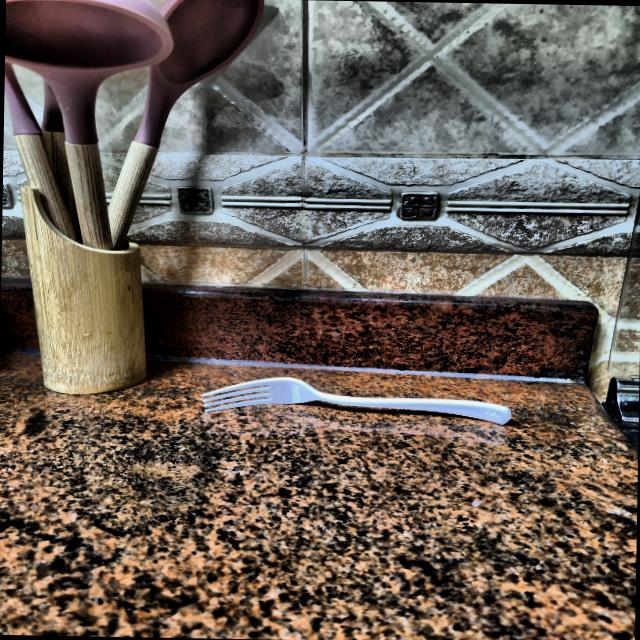plastic utensil: (190, 371, 508, 432)
